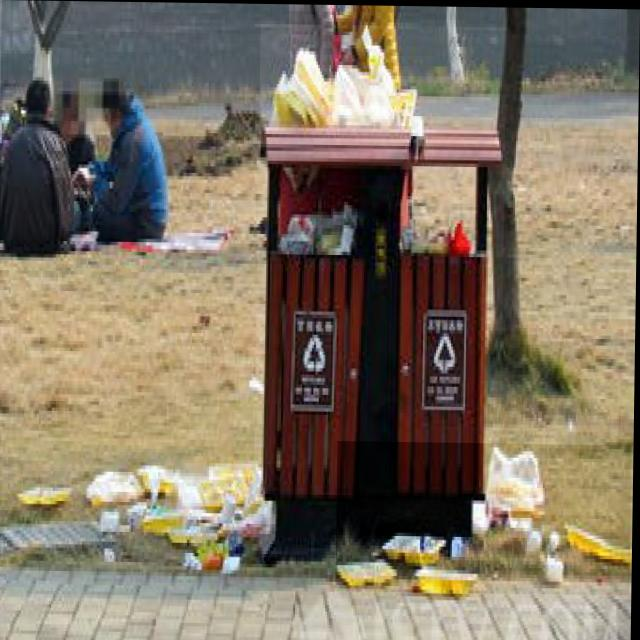garbage: (337, 441, 633, 594), (16, 460, 276, 570)
overflow: (254, 23, 507, 566)
